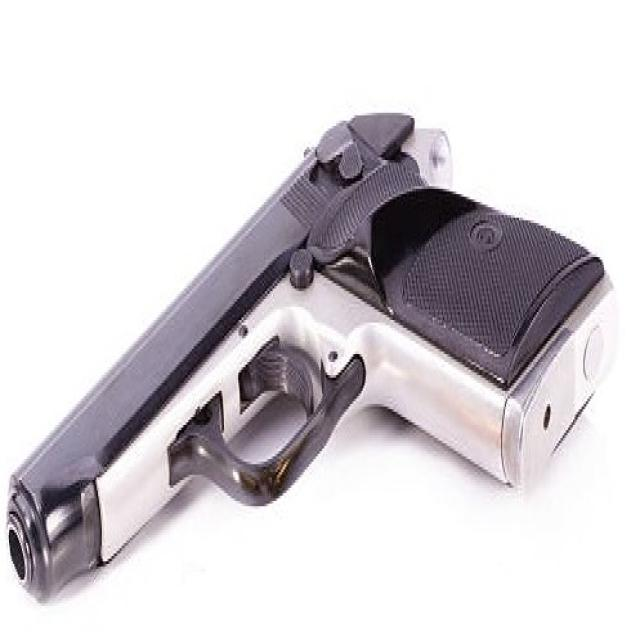pistol: (4, 94, 622, 610)
